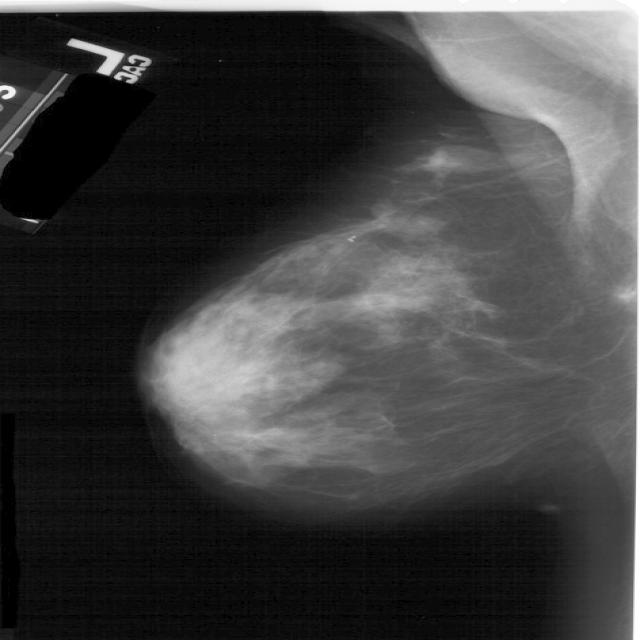tumour: (336, 211, 445, 244)
